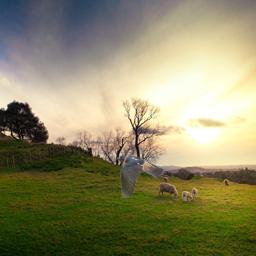Swallow: (117, 153, 165, 198)
